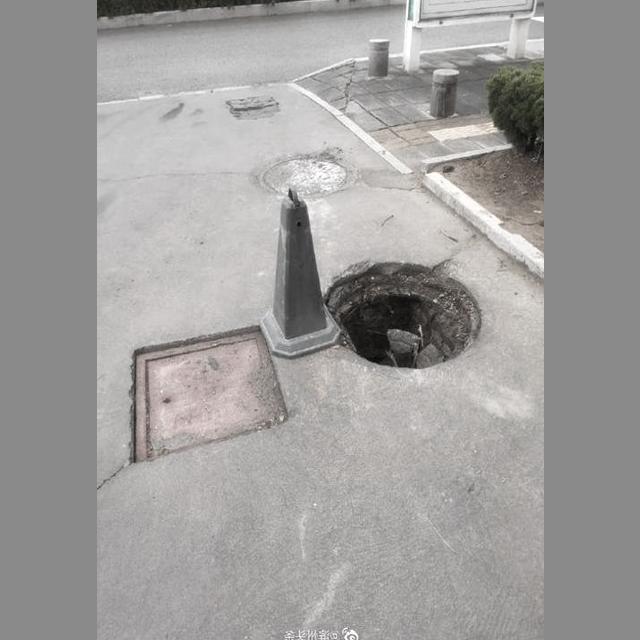lose: (319, 241, 482, 374)
